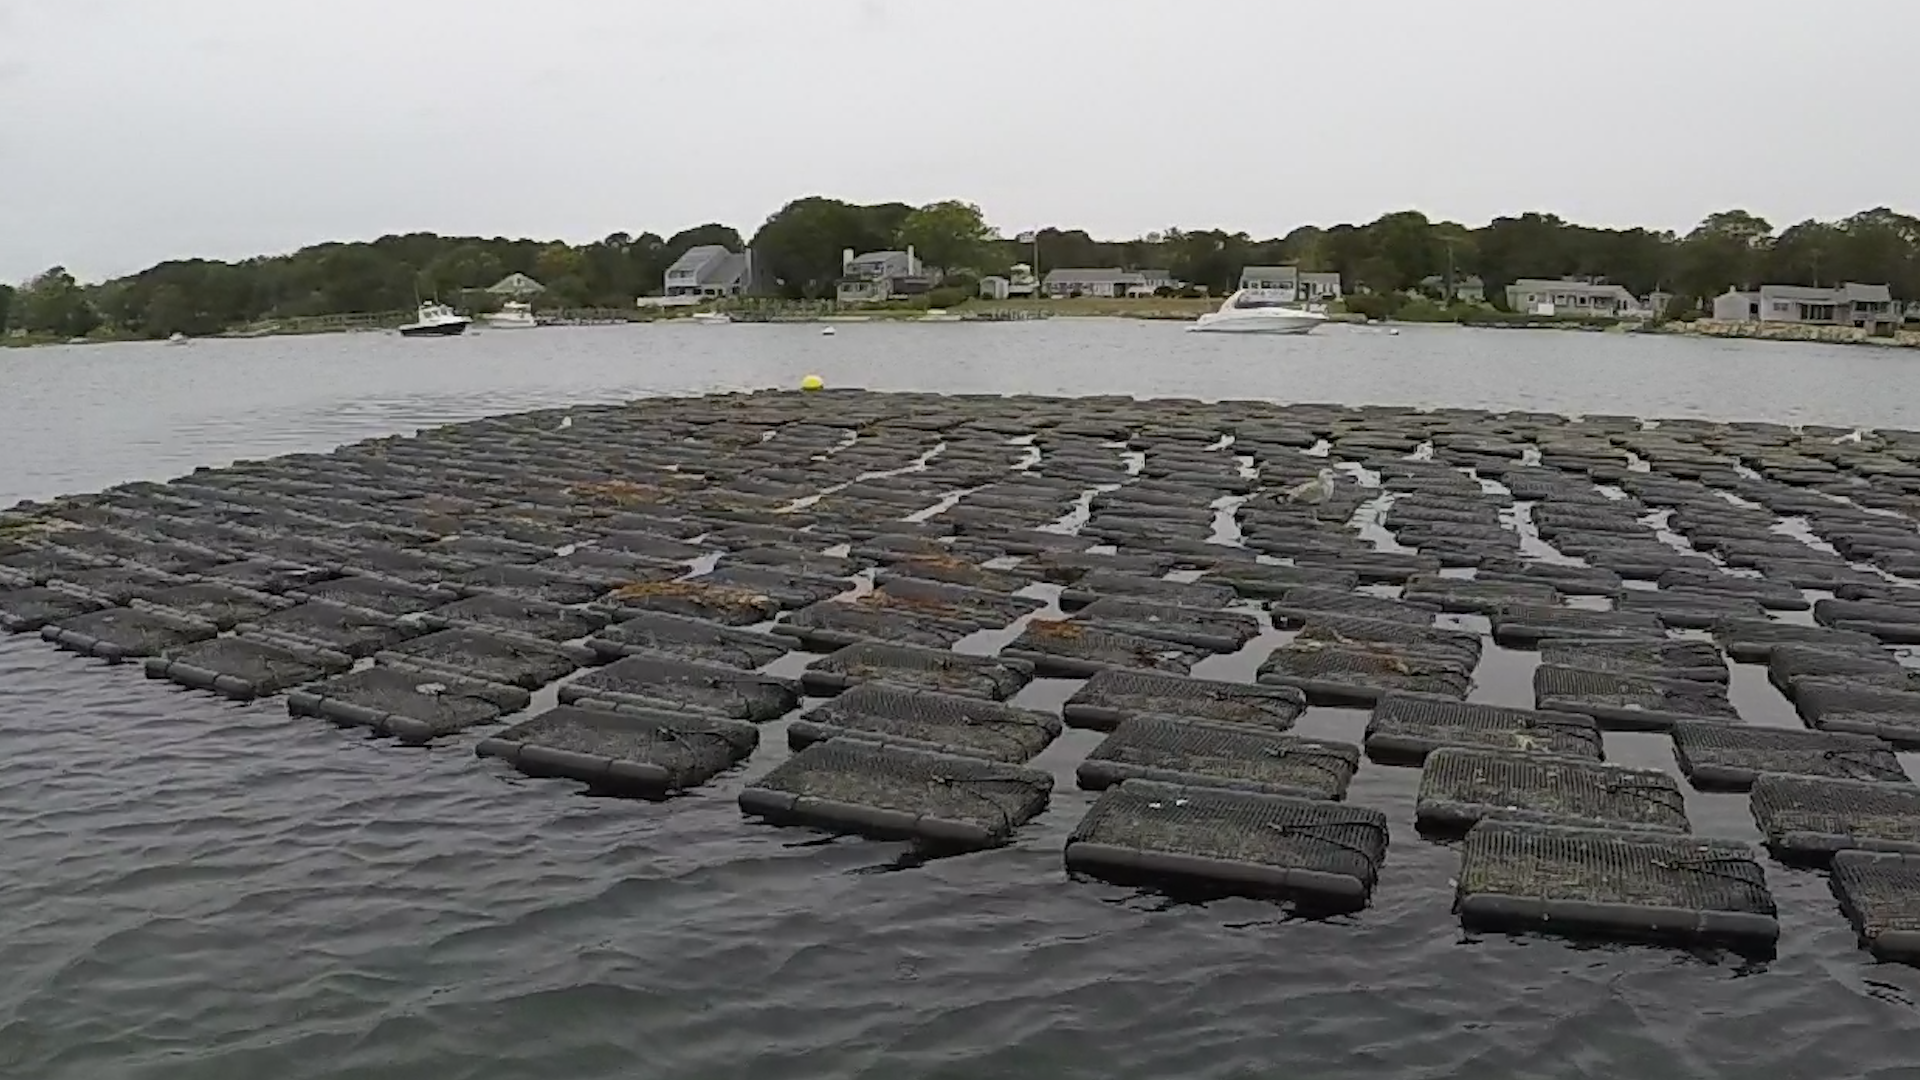bag: (1060, 782, 1393, 924), (742, 742, 1054, 843), (485, 709, 753, 802), (289, 663, 531, 738), (146, 628, 352, 694)
